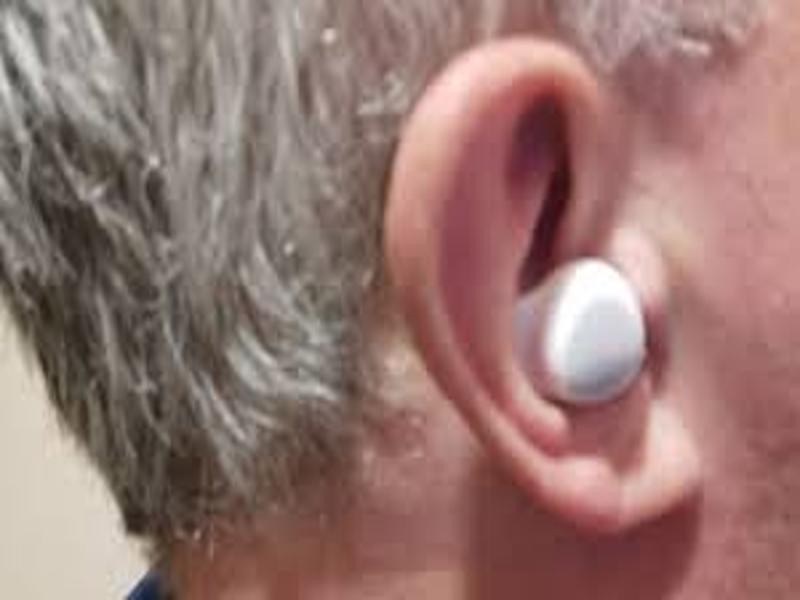headphone: (505, 251, 650, 408)
